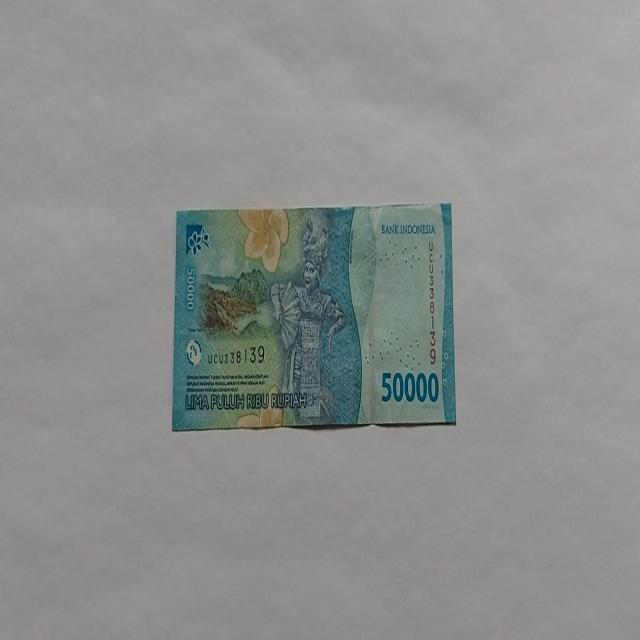lima puluh ribu rupiah: (171, 202, 457, 432)
